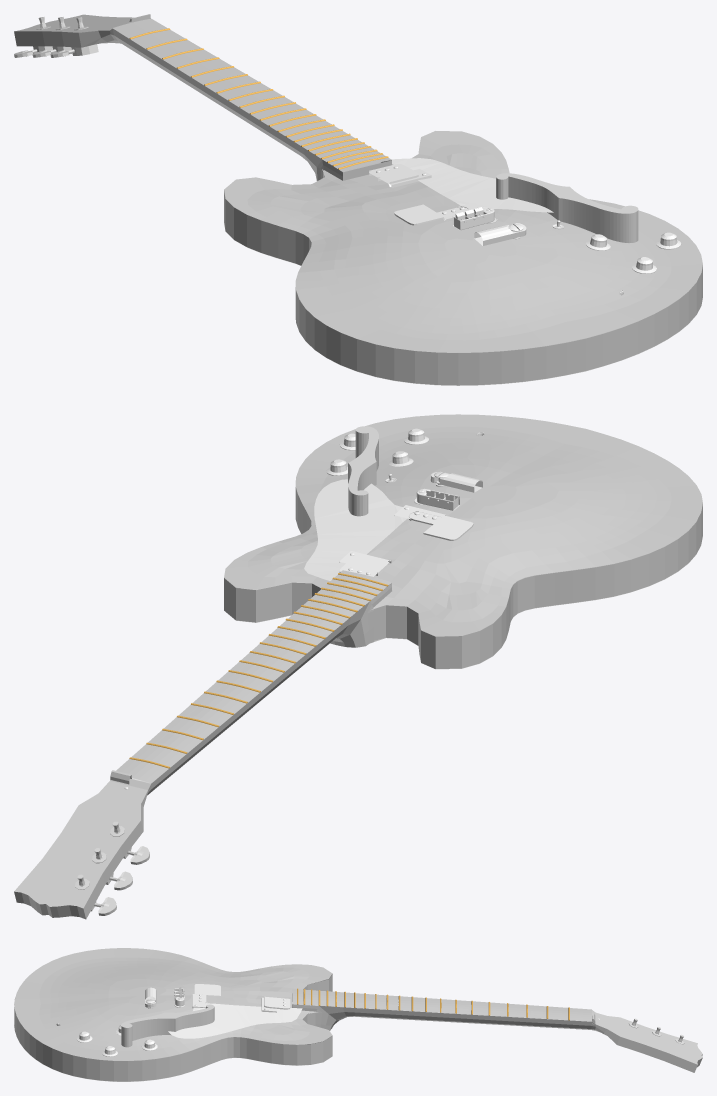
The model's file is gibson_335.glb.
The picture shows the model from 3 angles, top to bottom: view 1: azimuth 30°, elevation 25°; view 2: azimuth 150°, elevation 25°; view 3: azimuth 270°, elevation 25°; orthographic projection. The views are drawn at different scales.
Visible parts, largest first — view 1: Tapa, Aro, Diapason, Mastil, Curve.2228, Curve.2231, Círculo.009, Puente, Plano.004, Tensor, Pastillas.002, Pastillas.001; view 2: Tapa, Aro, Mastil, Diapason, Curve.2231, Círculo.009, Curve.2228, Plano.004, Pastillas.002; view 3: Tapa, Aro, Mastil, Diapason, Curve.2231, Curve.2228, Círculo.009, Plano.004, Pastillas.001, Pastillas.002, Puente.
Part boxes in pixels (<box>): Tapa: <box>224,131,702,385</box>; Aro: <box>224,164,702,385</box>; Diapason: <box>112,18,391,171</box>; Mastil: <box>14,14,391,180</box>; Curve.2228: <box>496,173,638,242</box>; Curve.2231: <box>392,158,553,212</box>; Círculo.009: <box>129,28,388,169</box>; Puente: <box>474,223,526,245</box>; Plano.004: <box>170,43,371,157</box>; Tensor: <box>452,207,497,230</box>; Pastillas.002: <box>394,204,443,225</box>; Pastillas.001: <box>369,164,418,183</box>; Tapa: <box>224,414,702,669</box>; Aro: <box>224,487,702,668</box>; Mastil: <box>14,583,391,919</box>; Diapason: <box>116,570,391,783</box>; Curve.2231: <box>304,479,409,580</box>; Círculo.009: <box>129,573,388,768</box>; Curve.2228: <box>348,426,378,516</box>; Plano.004: <box>158,581,356,744</box>; Pastillas.002: <box>423,515,473,540</box>; Tapa: <box>14,948,332,1081</box>; Aro: <box>14,974,332,1081</box>; Mastil: <box>292,993,702,1072</box>; Diapason: <box>292,989,591,1021</box>; Curve.2231: <box>168,1003,302,1038</box>; Curve.2228: <box>121,1004,214,1047</box>; Círculo.009: <box>297,988,569,1020</box>; Plano.004: <box>305,996,543,1015</box>; Pastillas.001: <box>264,996,290,1009</box>; Pastillas.002: <box>194,984,220,995</box>; Puente: <box>145,987,156,1008</box>.
Bounding box in the file's own units: 3.27 × 1.08 × 8.43.
